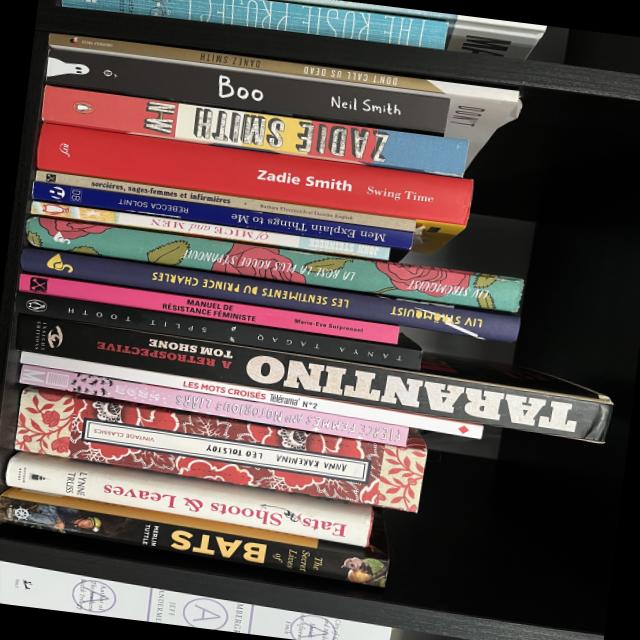book: (12, 303, 614, 443), (38, 30, 523, 173), (30, 121, 472, 257), (12, 382, 427, 512), (16, 244, 519, 343), (21, 214, 522, 313), (0, 464, 394, 587), (19, 348, 482, 440), (38, 84, 468, 178), (1, 448, 374, 547), (43, 46, 448, 136), (11, 286, 422, 370), (30, 174, 412, 262), (16, 362, 408, 447), (0, 560, 392, 640), (16, 271, 399, 345), (33, 169, 415, 232), (29, 198, 390, 262), (60, 0, 447, 49)
